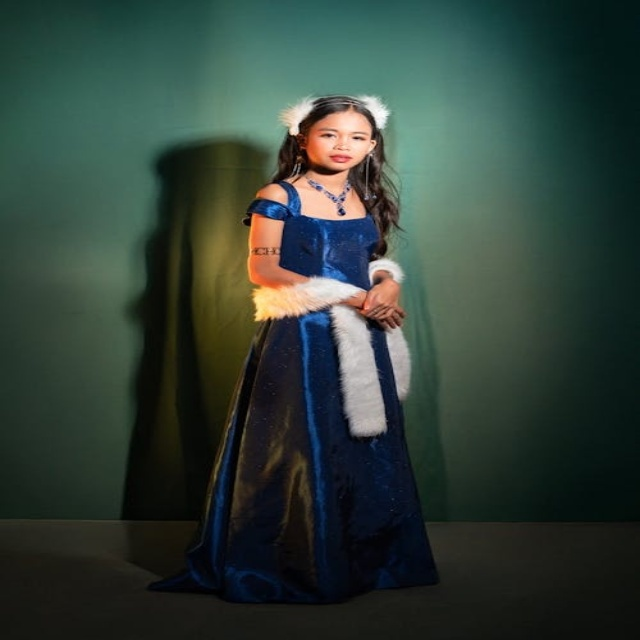Sin_gafas: (314, 124, 369, 143)
Sin_guantes: (365, 279, 407, 330)
Sin_mascara: (329, 155, 352, 162)
